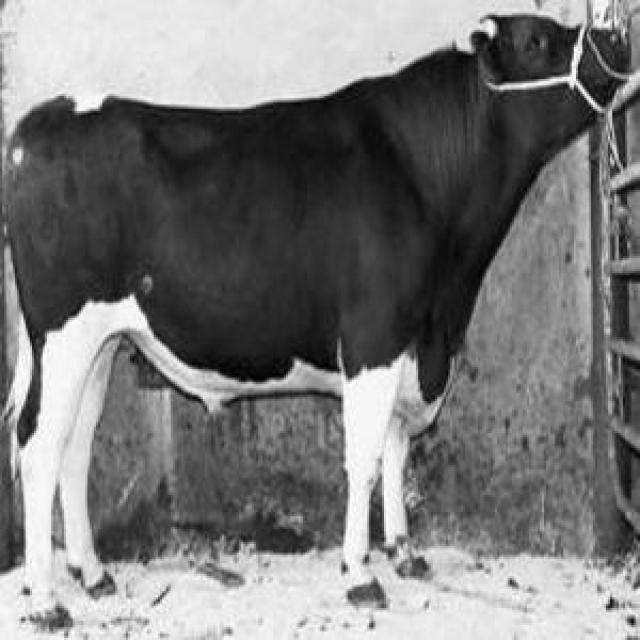cow: (8, 16, 625, 628), (395, 545, 429, 577)
